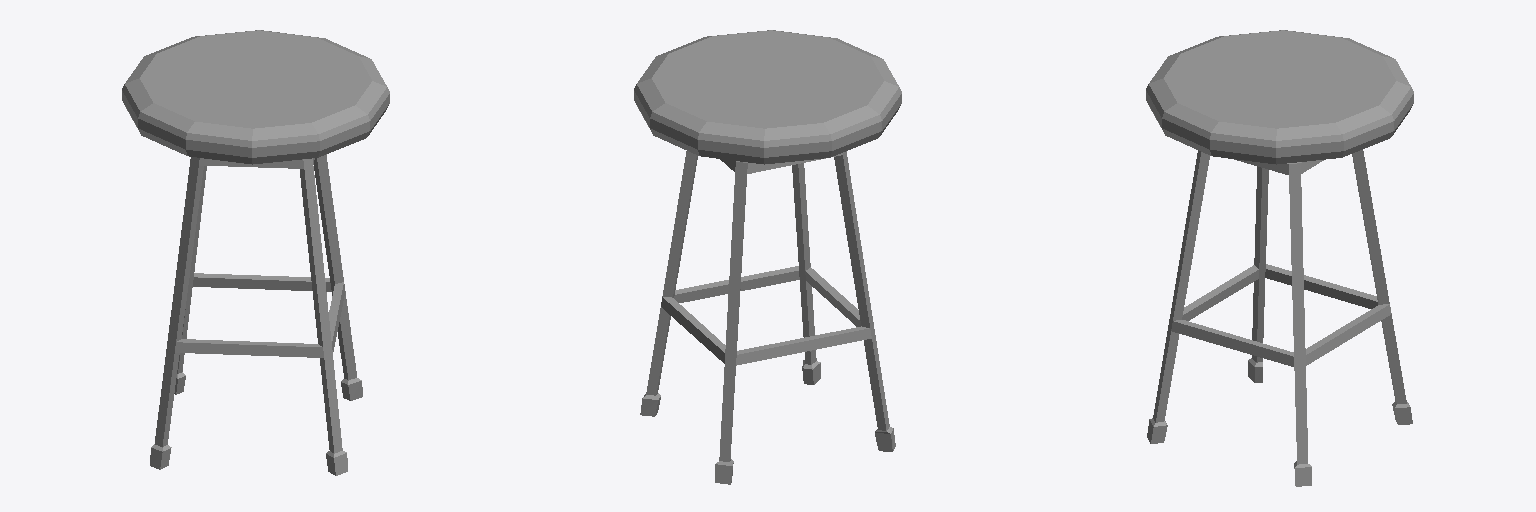
The model's file is Benkis.obj.
The picture shows the model from 3 angles: view 1: azimuth 30°, elevation 25°; view 2: azimuth 150°, elevation 25°; view 3: azimuth 270°, elevation 25°; orthographic projection.
Visible parts, largest first — view 1: Cylinder.020_Cylinder.028; view 2: Cylinder.020_Cylinder.028; view 3: Cylinder.020_Cylinder.028.
Part boxes in pixels (left/top/right/bottom): Cylinder.020_Cylinder.028: left=122, top=30, right=389, bottom=475; Cylinder.020_Cylinder.028: left=634, top=30, right=901, bottom=484; Cylinder.020_Cylinder.028: left=1146, top=30, right=1413, bottom=486.
Size of the model in its own units: 0.4412 by 0.6396 by 0.4412.